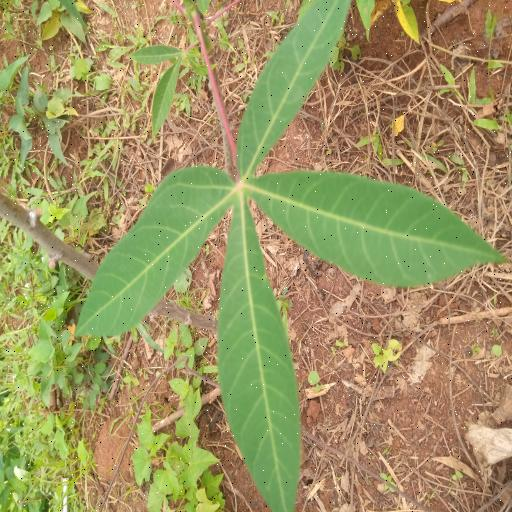Cassava_Healthy: (85, 6, 495, 512)
